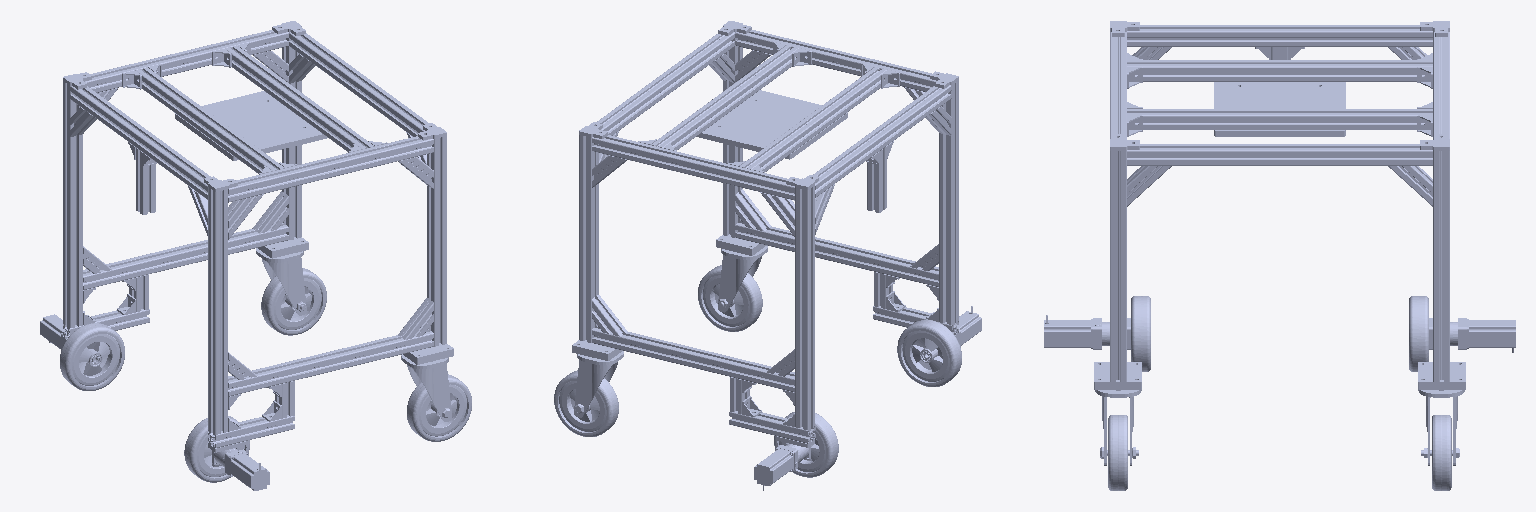
URDF robot description (rover_delta):
<?xml version="1.0" encoding="utf-8"?>
<!-- This URDF was automatically created by SolidWorks to URDF Exporter! Originally created by [author] ([email redacted]) 
     Commit Version: 1.6.0-1-g15f4949  Build Version: 1.6.7594.29634
     For more information, please see http://wiki.ros.org/sw_urdf_exporter -->
<robot
  name="rover_delta">
  <link
    name="base_link">
    <inertial>
      <origin
        xyz="-0.0624120903932078 -0.0282640080894525 0.432729945535538"
        rpy="0 0 0" />
      <mass
        value="13.2207623449304" />
      <inertia
        ixx="0.158642716575027"
        ixy="8.60491381307468E-07"
        ixz="2.30923551046511E-06"
        iyy="0.129069389745107"
        iyz="8.60779421185306E-07"
        izz="0.162646112270567" />
    </inertial>
    <visual>
      <origin
        xyz="0 0 0"
        rpy="0 0 0" />
      <geometry>
        <mesh
          filename="package://rover_delta/meshes/base_link.STL" />
      </geometry>
      <material
        name="">
        <color
          rgba="0.792156862745098 0.819607843137255 0.933333333333333 1" />
      </material>
    </visual>
    <collision>
      <origin
        xyz="0 0 0"
        rpy="0 0 0" />
      <geometry>
        <mesh
          filename="package://rover_delta/meshes/base_link.STL" />
      </geometry>
    </collision>
  </link>
  <link
    name="linkbehindleft">
    <inertial>
      <origin
        xyz="-3.46944695195361E-17 0.0174917373393942 -1.38777878078145E-17"
        rpy="0 0 0" />
      <mass
        value="0.782900413754046" />
      <inertia
        ixx="0.00213839505168217"
        ixy="3.75059754427217E-18"
        ixz="-3.28943881347144E-19"
        iyy="0.00415573217986098"
        iyz="1.76718276882576E-18"
        izz="0.00213839505168217" />
    </inertial>
    <visual>
      <origin
        xyz="0 0 0"
        rpy="0 0 0" />
      <geometry>
        <mesh
          filename="package://rover_delta/meshes/linkbehindleft.STL" />
      </geometry>
      <material
        name="">
        <color
          rgba="0.792156862745098 0.819607843137255 0.933333333333333 1" />
      </material>
    </visual>
    <collision>
      <origin
        xyz="0 0 0"
        rpy="0 0 0" />
      <geometry>
        <mesh
          filename="package://rover_delta/meshes/linkbehindleft.STL" />
      </geometry>
    </collision>
  </link>
  <joint
    name="behindleft"
    type="continuous">
    <origin
      xyz="-0.25349 0.28054 0.068047"
      rpy="0 0 0" />
    <parent
      link="base_link" />
    <child
      link="linkbehindleft" />
    <axis
      xyz="0 -1 0" />
  </joint>
  <link
    name="linkbehindright">
    <inertial>
      <origin
        xyz="-3.53883589099269E-16 -0.017508262660606 -4.16333634234434E-17"
        rpy="0 0 0" />
      <mass
        value="0.782900413754039" />
      <inertia
        ixx="0.00213839505168216"
        ixy="5.13744684447839E-17"
        ixz="-2.26693805367102E-19"
        iyy="0.00415573217986095"
        iyz="2.24431099668924E-18"
        izz="0.00213839505168216" />
    </inertial>
    <visual>
      <origin
        xyz="0 0 0"
        rpy="0 0 0" />
      <geometry>
        <mesh
          filename="package://rover_delta/meshes/linkbehindright.STL" />
      </geometry>
      <material
        name="">
        <color
          rgba="0.792156862745098 0.819607843137255 0.933333333333333 1" />
      </material>
    </visual>
    <collision>
      <origin
        xyz="0 0 0"
        rpy="0 0 0" />
      <geometry>
        <mesh
          filename="package://rover_delta/meshes/linkbehindright.STL" />
      </geometry>
    </collision>
  </link>
  <joint
    name="behindright"
    type="continuous">
    <origin
      xyz="-0.25349 -0.33706 0.068047"
      rpy="0 0 0" />
    <parent
      link="base_link" />
    <child
      link="linkbehindright" />
    <axis
      xyz="0 1 0" />
  </joint>
  <link
    name="linkquaytrai">
    <inertial>
      <origin
        xyz="0.0289647421166409 -0.00735915024312639 -0.121361098949186"
        rpy="0 0 0" />
      <mass
        value="1.07517565910656" />
      <inertia
        ixx="0.00302479560345683"
        ixy="-3.89341977729954E-09"
        ixz="0.000172470973111219"
        iyy="0.00503208142649592"
        iyz="9.32477681032724E-11"
        izz="0.002595533683283" />
    </inertial>
    <visual>
      <origin
        xyz="0 0 0"
        rpy="0 0 0" />
      <geometry>
        <mesh
          filename="package://rover_delta/meshes/linkquaytrai.STL" />
      </geometry>
      <material
        name="">
        <color
          rgba="0.792156862745098 0.819607843137255 0.933333333333333 1" />
      </material>
    </visual>
    <collision>
      <origin
        xyz="0 0 0"
        rpy="0 0 0" />
      <geometry>
        <mesh
          filename="package://rover_delta/meshes/linkquaytrai.STL" />
      </geometry>
    </collision>
  </link>
  <joint
    name="quaytrai"
    type="continuous">
    <origin
      xyz="0.34825 0.35905 0.21175"
      rpy="0 0 0" />
    <parent
      link="base_link" />
    <child
      link="linkquaytrai" />
    <axis
      xyz="0 0 -1" />
    <limit
      lower="0"
      upper="0"
      effort="0"
      velocity="0" />
  </joint>
  <link
    name="linkbanhtrai">
    <inertial>
      <origin
        xyz="1.11022302462516E-15 0.0174382691873848 -1.38777878078145E-16"
        rpy="0 0 0" />
      <mass
        value="0.801171684247663" />
      <inertia
        ixx="0.00215127585319246"
        ixy="2.12785518945642E-18"
        ixz="9.38800088912501E-20"
        iyy="0.00415661128710577"
        iyz="1.43079684938816E-19"
        izz="0.00215127585319247" />
    </inertial>
    <visual>
      <origin
        xyz="0 0 0"
        rpy="0 0 0" />
      <geometry>
        <mesh
          filename="package://rover_delta/meshes/linkbanhtrai.STL" />
      </geometry>
      <material
        name="">
        <color
          rgba="0.792156862745098 0.819607843137255 0.933333333333333 1" />
      </material>
    </visual>
    <collision>
      <origin
        xyz="0 0 0"
        rpy="0 0 0" />
      <geometry>
        <mesh
          filename="package://rover_delta/meshes/linkbanhtrai.STL" />
      </geometry>
    </collision>
  </link>
  <joint
    name="banhtrai"
    type="continuous">
    <origin
      xyz="0.03826 -0.024813 -0.1537"
      rpy="0 0 0" />
    <parent
      link="linkquaytrai" />
    <child
      link="linkbanhtrai" />
    <axis
      xyz="0 1 0" />
  </joint>
  <link
    name="linkquayphai">
    <inertial>
      <origin
        xyz="0.0342066835970145 3.39134724827161E-05 -0.137660690472721"
        rpy="0 0 0" />
      <mass
        value="1.07517574915818" />
      <inertia
        ixx="0.00302480093250994"
        ixy="-5.90797596266969E-10"
        ixz="0.000172475794559178"
        iyy="0.00503209382442131"
        iyz="-1.28293444075057E-09"
        izz="0.00259553223546296" />
    </inertial>
    <visual>
      <origin
        xyz="0 0 0"
        rpy="0 0 0" />
      <geometry>
        <mesh
          filename="package://rover_delta/meshes/linkquayphai.STL" />
      </geometry>
      <material
        name="">
        <color
          rgba="0.792156862745098 0.819607843137255 0.933333333333333 1" />
      </material>
    </visual>
    <collision>
      <origin
        xyz="0 0 0"
        rpy="0 0 0" />
      <geometry>
        <mesh
          filename="package://rover_delta/meshes/linkquayphai.STL" />
      </geometry>
    </collision>
  </link>
  <joint
    name="quayphai"
    type="continuous">
    <origin
      xyz="0.34301 -0.40826 0.22805"
      rpy="0 0 0" />
    <parent
      link="base_link" />
    <child
      link="linkquayphai" />
    <axis
      xyz="0 0 -1" />
    <limit
      lower="0"
      upper="0"
      effort="0"
      velocity="0" />
  </joint>
  <link
    name="linkbanphai">
    <inertial>
      <origin
        xyz="2.2204E-16 -0.017454 -5.5511E-17"
        rpy="0 0 0" />
      <mass
        value="0.80117" />
      <inertia
        ixx="0.0021513"
        ixy="5.2381E-18"
        ixz="1.8806E-19"
        iyy="0.0041566"
        iyz="1.9692E-19"
        izz="0.0021513" />
    </inertial>
    <visual>
      <origin
        xyz="0 0 0"
        rpy="0 0 0" />
      <geometry>
        <mesh
          filename="package://rover_delta/meshes/linkbanphai.STL" />
      </geometry>
      <material
        name="">
        <color
          rgba="0.79216 0.81961 0.93333 1" />
      </material>
    </visual>
    <collision>
      <origin
        xyz="0 0 0"
        rpy="0 0 0" />
      <geometry>
        <mesh
          filename="package://rover_delta/meshes/linkbanphai.STL" />
      </geometry>
    </collision>
  </link>
  <joint
    name="banhphai"
    type="continuous">
    <origin
      xyz="0.043502 0.0175 -0.17"
      rpy="0 0 0" />
    <parent
      link="linkquayphai" />
    <child
      link="linkbanphai" />
    <axis
      xyz="0 -1 0" />
  </joint>
</robot>

--- Facts derived from the render (not from the file) ---
The picture shows the robot from 3 angles, left to right: view 1: azimuth 30°, elevation 25°; view 2: azimuth 150°, elevation 25°; view 3: azimuth 270°, elevation 25°; orthographic projection.
Robot: rover_delta — 7 links, 6 joints (6 continuous); root link base_link; default pose: every joint at zero.
Visible links, largest first — view 1: base_link, linkquaytrai, linkbehindleft, linkquayphai, linkbehindright, linkbanphai, linkbanhtrai; view 2: base_link, linkbehindright, linkquayphai, linkquaytrai, linkbanhtrai, linkbehindleft, linkbanphai; view 3: base_link, linkbanphai, linkbanhtrai, linkbehindleft, linkbehindright, linkquaytrai, linkquayphai.
Link boxes in pixels (x1,y1,x2,y2): base_link: [40, 21, 453, 490]; linkquaytrai: [256, 248, 325, 335]; linkbehindleft: [60, 323, 124, 390]; linkquayphai: [401, 354, 469, 441]; linkbehindright: [184, 416, 249, 482]; linkbanphai: [417, 374, 471, 440]; linkbanhtrai: [267, 268, 326, 331]; base_link: [572, 21, 981, 490]; linkbehindright: [897, 320, 961, 386]; linkquayphai: [700, 246, 767, 331]; linkquaytrai: [557, 351, 623, 436]; linkbanhtrai: [554, 370, 613, 434]; linkbehindleft: [774, 412, 838, 477]; linkbanphai: [698, 265, 751, 331]; base_link: [1044, 21, 1515, 389]; linkbanphai: [1100, 417, 1138, 490]; linkbanhtrai: [1421, 415, 1459, 487]; linkbehindleft: [1409, 296, 1428, 371]; linkbehindright: [1131, 296, 1150, 371]; linkquaytrai: [1418, 390, 1464, 490]; linkquayphai: [1095, 390, 1141, 465].
Size in the robot's own frame: 0.82 by 1.11 by 0.89 metres.
Meshes: 7 distinct files referenced, 7 mesh visuals loaded (7 binary STL).
